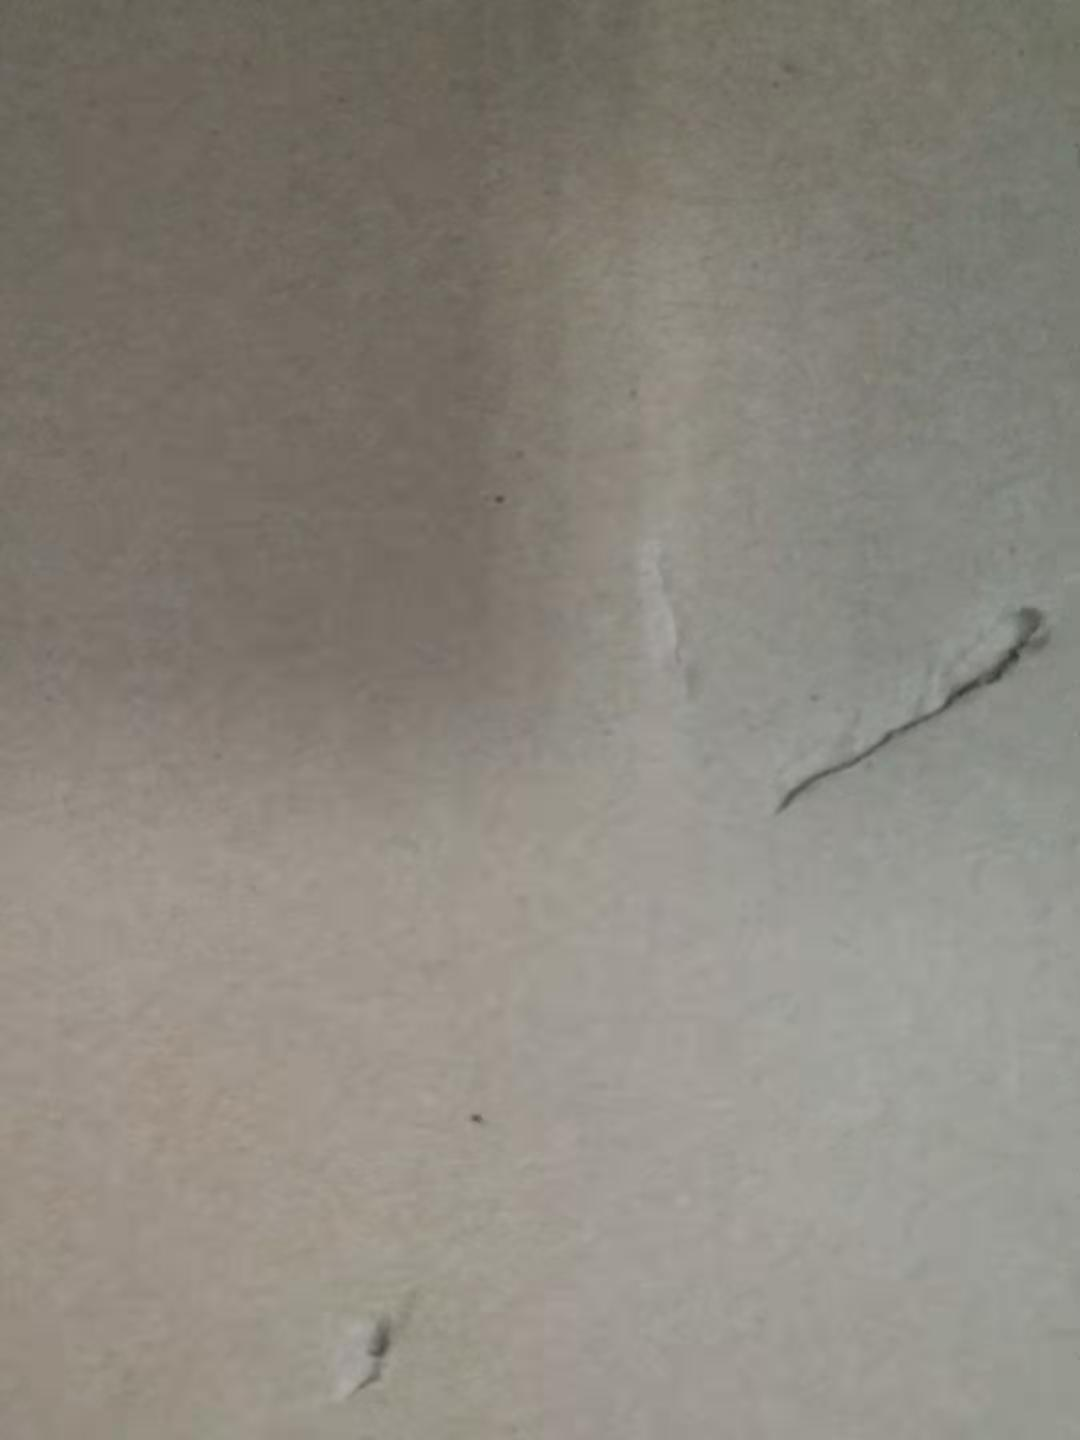defect: (745, 575, 1077, 842), (299, 1272, 449, 1428), (622, 518, 720, 721)
